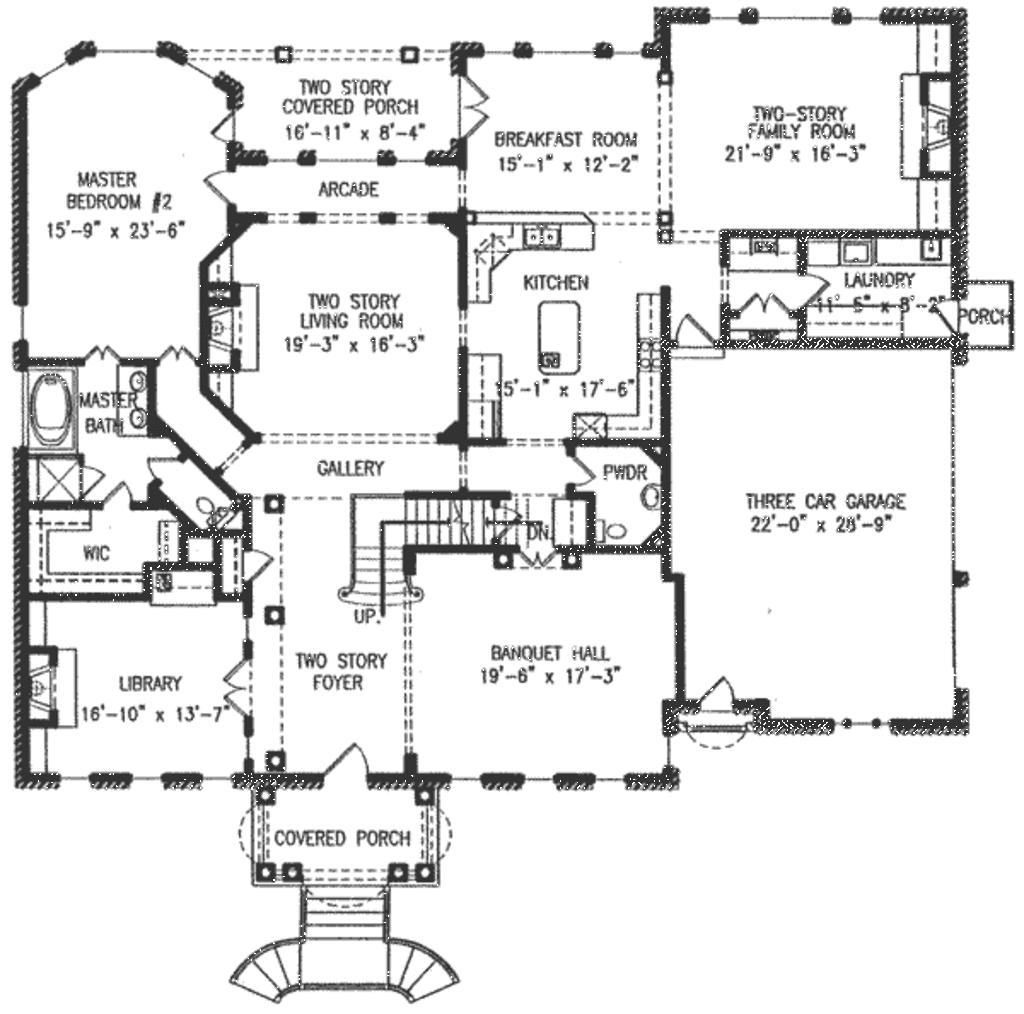door: (452, 72, 491, 144), (665, 307, 721, 352), (223, 660, 255, 730), (323, 745, 369, 792), (697, 672, 740, 712), (737, 289, 794, 319), (203, 165, 238, 210), (237, 546, 272, 585), (206, 106, 236, 150), (137, 450, 180, 480), (96, 482, 134, 512)
kitchen_bar: (532, 299, 583, 380)
stairs: (225, 885, 468, 1007), (338, 486, 530, 622)
tub: (21, 363, 81, 451)
windows: (438, 767, 655, 798), (42, 764, 237, 794)
